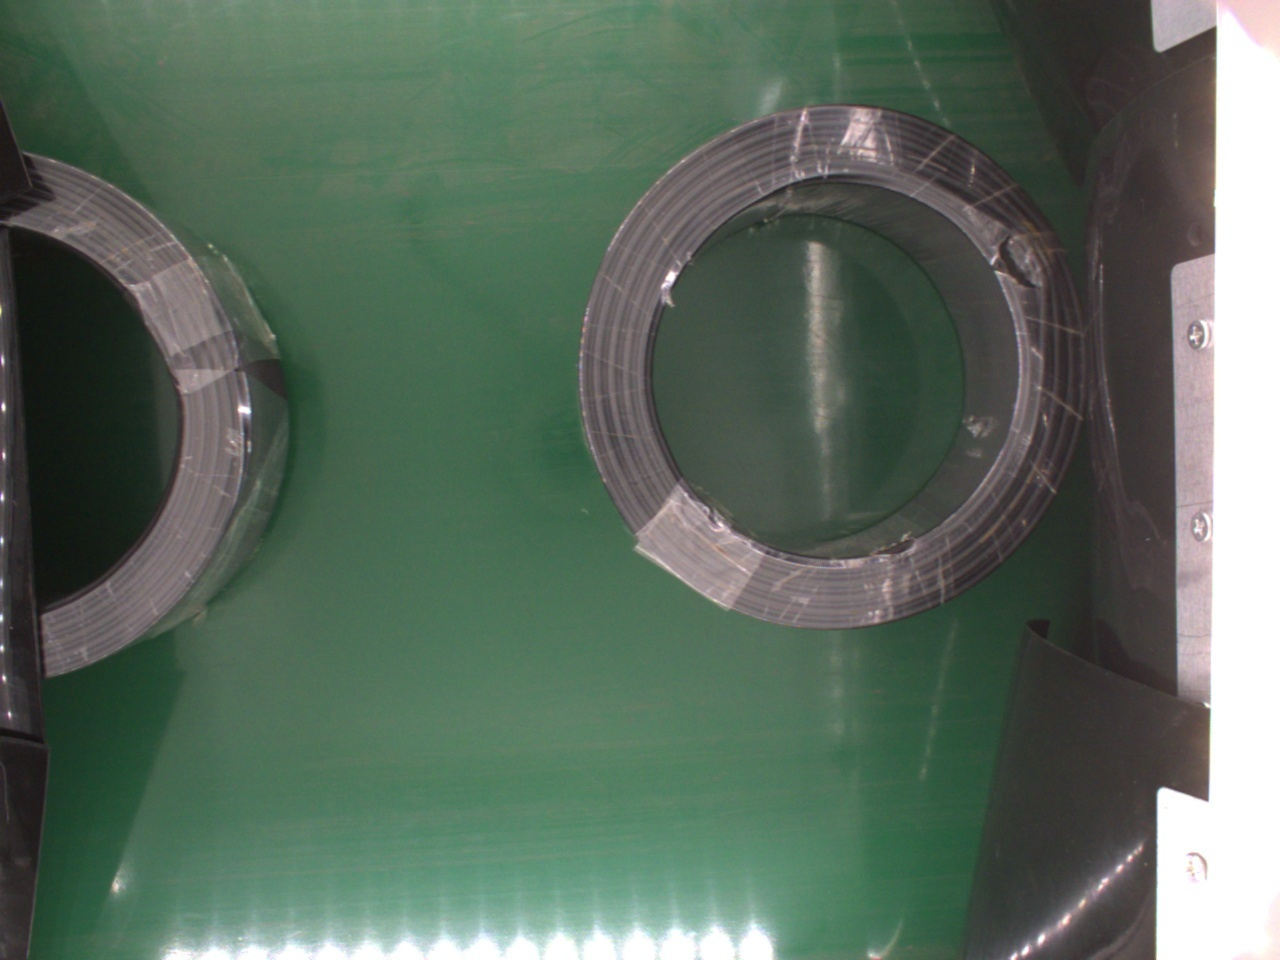black: (577, 99, 1082, 632), (21, 149, 284, 672)
